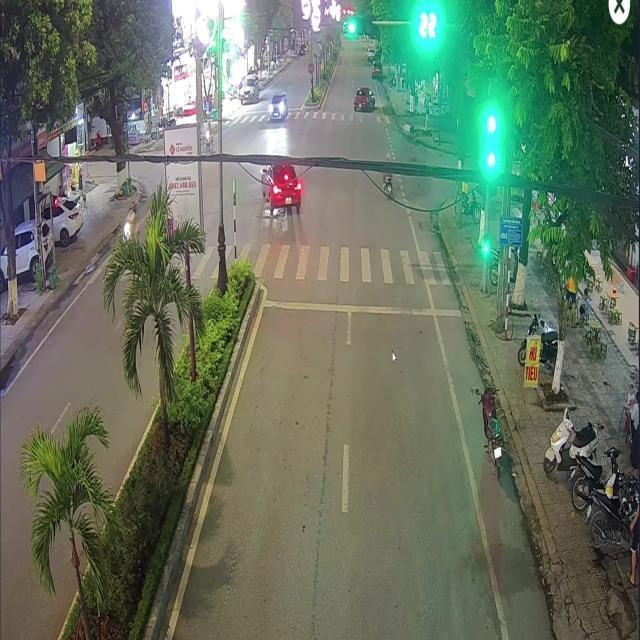car: (260, 163, 302, 213), (353, 87, 374, 110)
green_light: (346, 15, 373, 36), (486, 135, 495, 168), (483, 236, 487, 254)
motobike: (475, 385, 501, 464), (382, 174, 392, 197)
stop_line: (263, 299, 460, 315)
